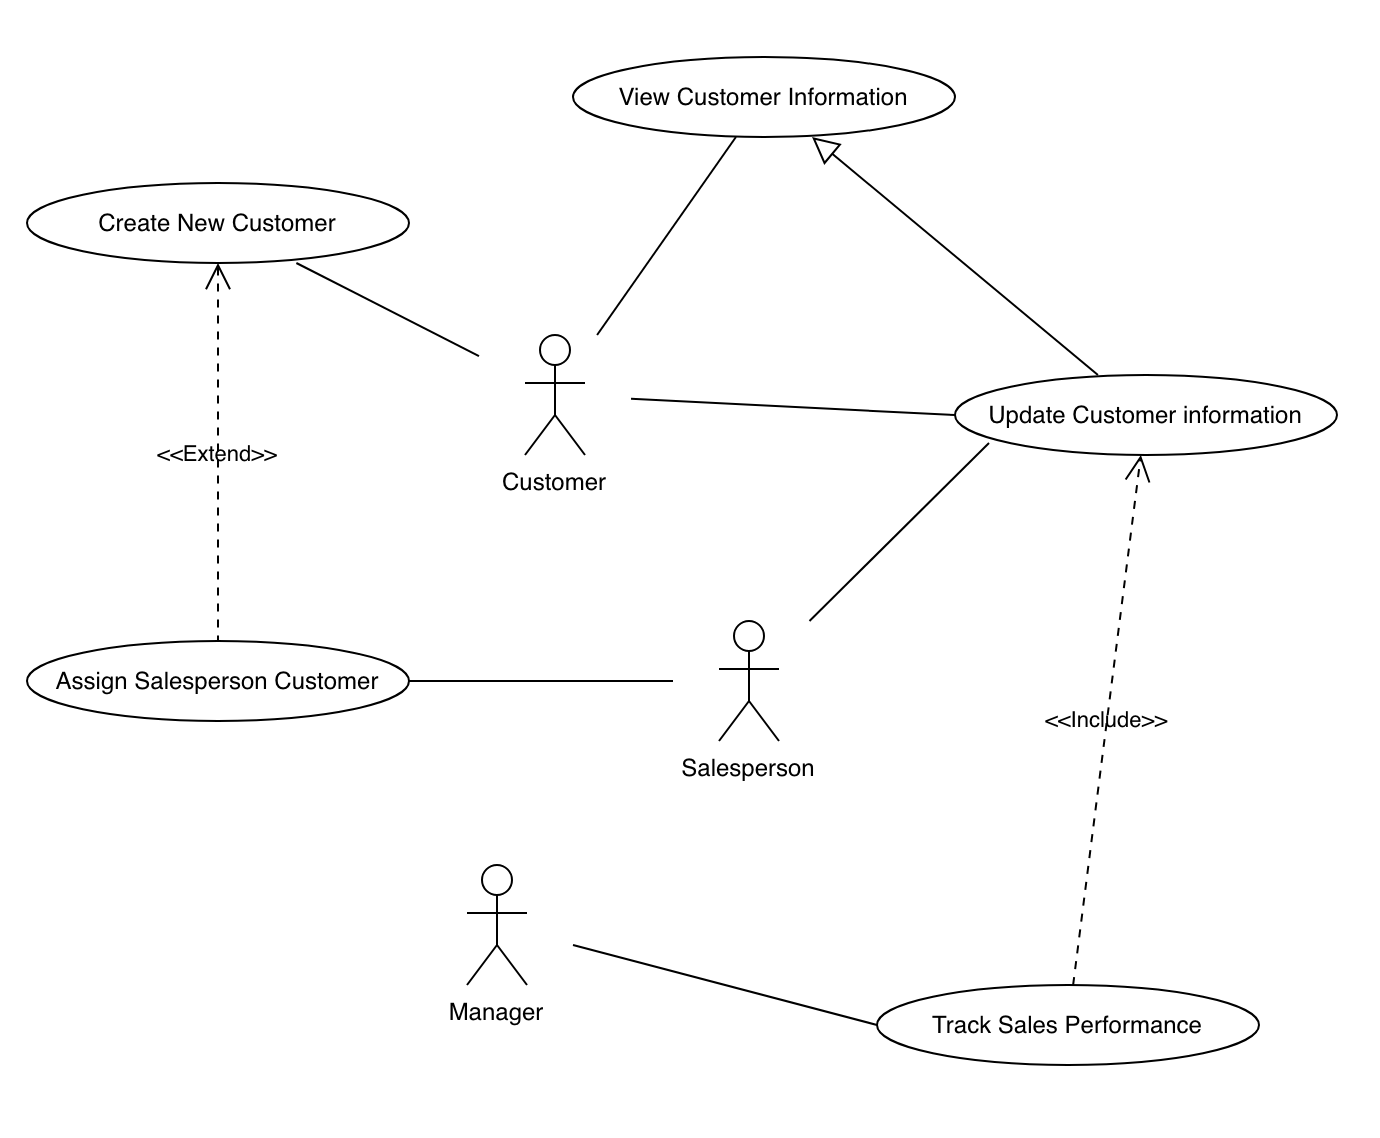actor: (517, 331, 599, 462), (460, 860, 533, 990), (718, 615, 790, 747)
association: (811, 138, 1096, 372), (1071, 457, 1161, 981), (807, 442, 990, 625), (588, 139, 736, 333), (571, 942, 872, 1029), (296, 260, 483, 358), (199, 262, 233, 635), (628, 393, 952, 427), (410, 667, 673, 691)
text: (930, 1005, 1206, 1047), (52, 664, 381, 698), (617, 76, 912, 113), (983, 398, 1310, 431), (94, 205, 346, 240), (671, 747, 828, 786), (154, 437, 290, 470), (1038, 701, 1179, 733), (438, 995, 549, 1030), (492, 471, 625, 500)
use_case: (569, 52, 960, 142), (875, 979, 1264, 1069), (23, 179, 411, 268), (952, 371, 1341, 460), (24, 638, 411, 725)
